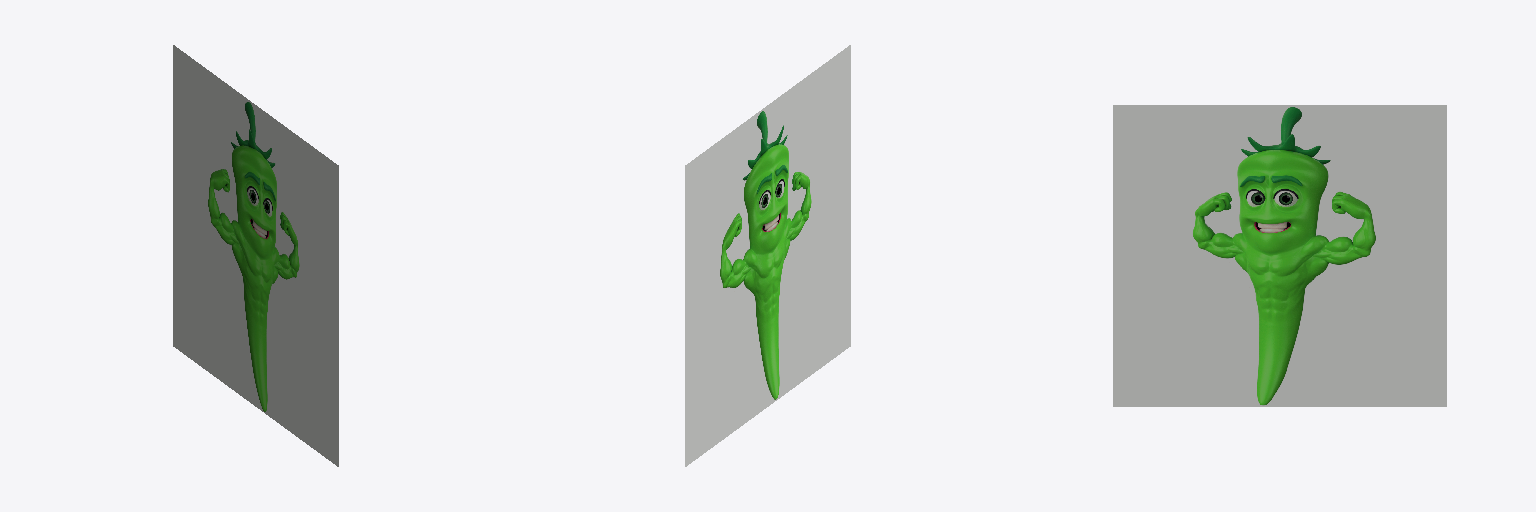
The picture shows the model from 3 angles: view 1: azimuth 30°, elevation 25°; view 2: azimuth 150°, elevation 25°; view 3: azimuth 270°, elevation 25°; orthographic projection.
Parts seen in each view (by area): view 1: Plane; view 2: Plane; view 3: Plane.
Boxes of the visible parts, box(x1,y1,x2,y2) form: Plane: box(173, 45, 338, 466); Plane: box(685, 45, 850, 466); Plane: box(1113, 105, 1446, 406).
Bounding box in the file's own units: 0 × 6 × 6.
1 materials, 1 textured.